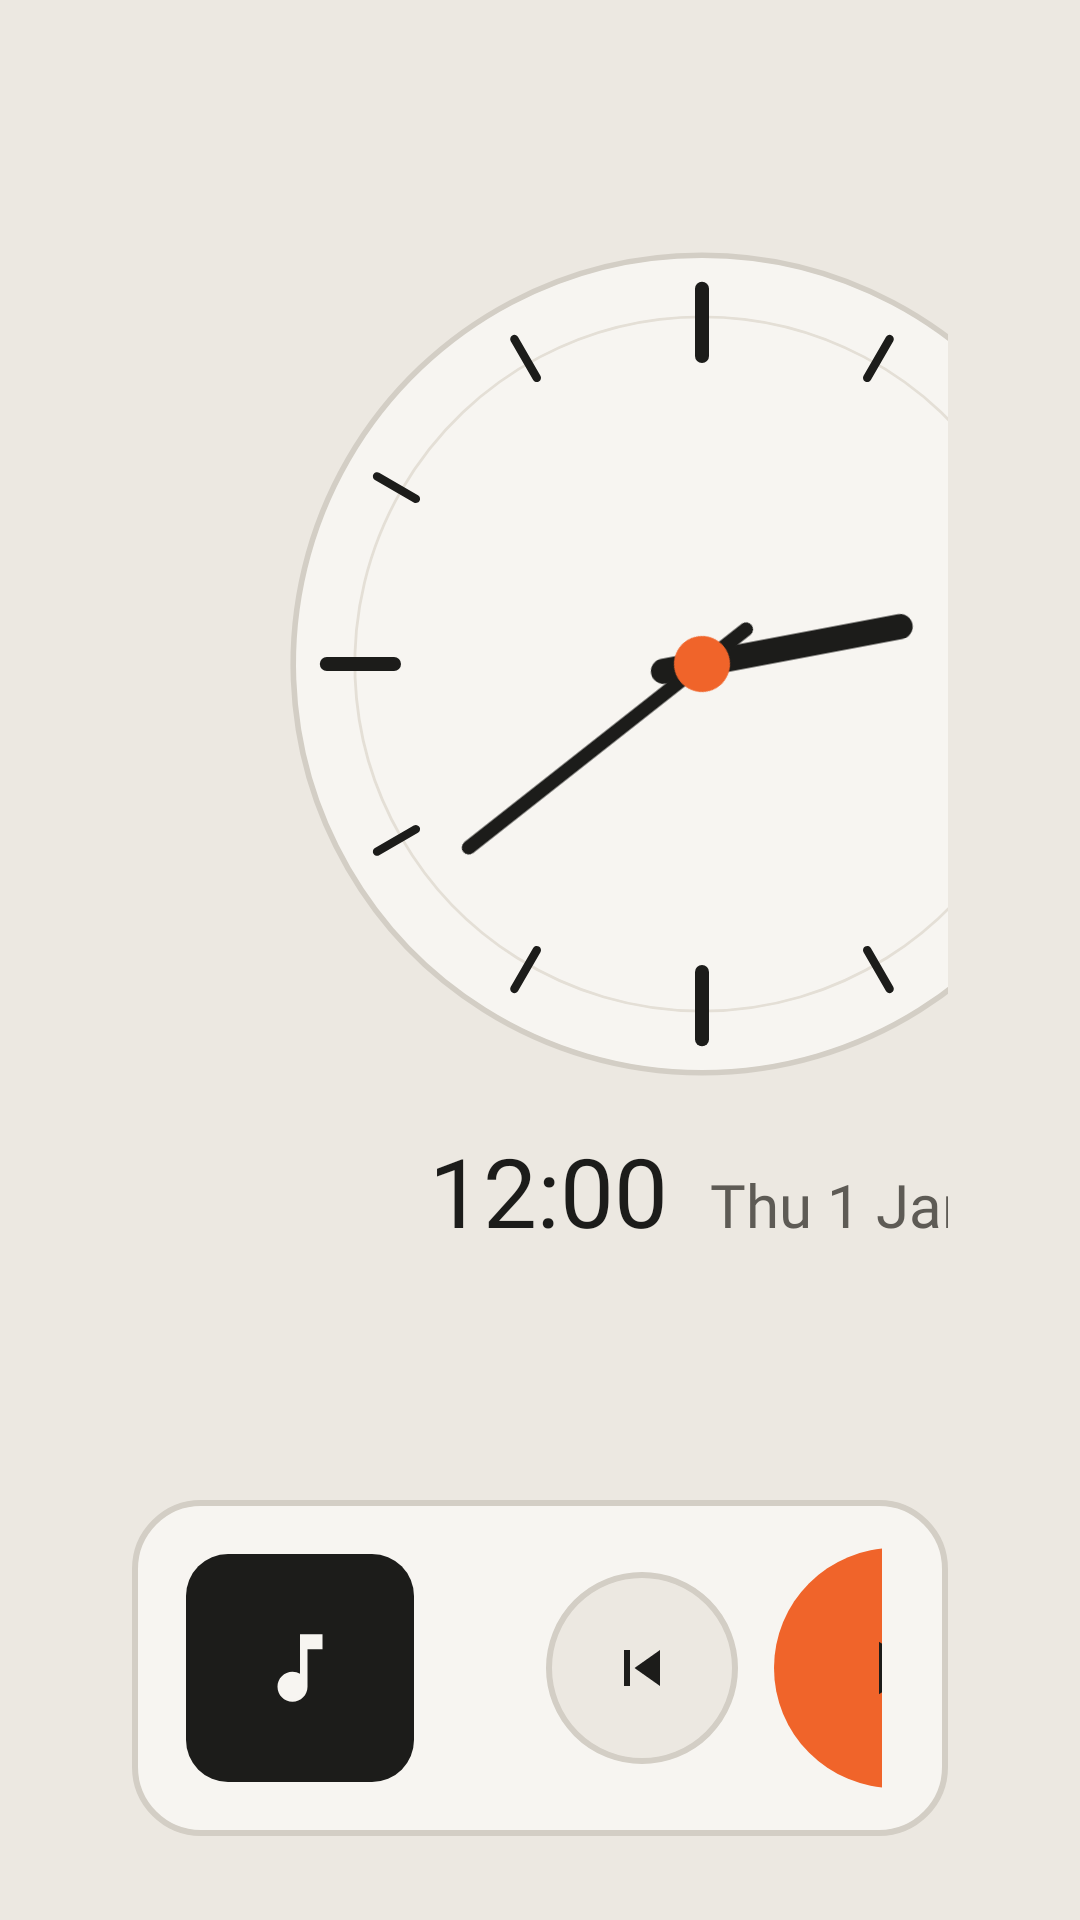

Icons on this 1080px×1920px Android screen, each with the point to tap as point (x, y):
music: point (300, 1668)
Previous: point (642, 1668)
